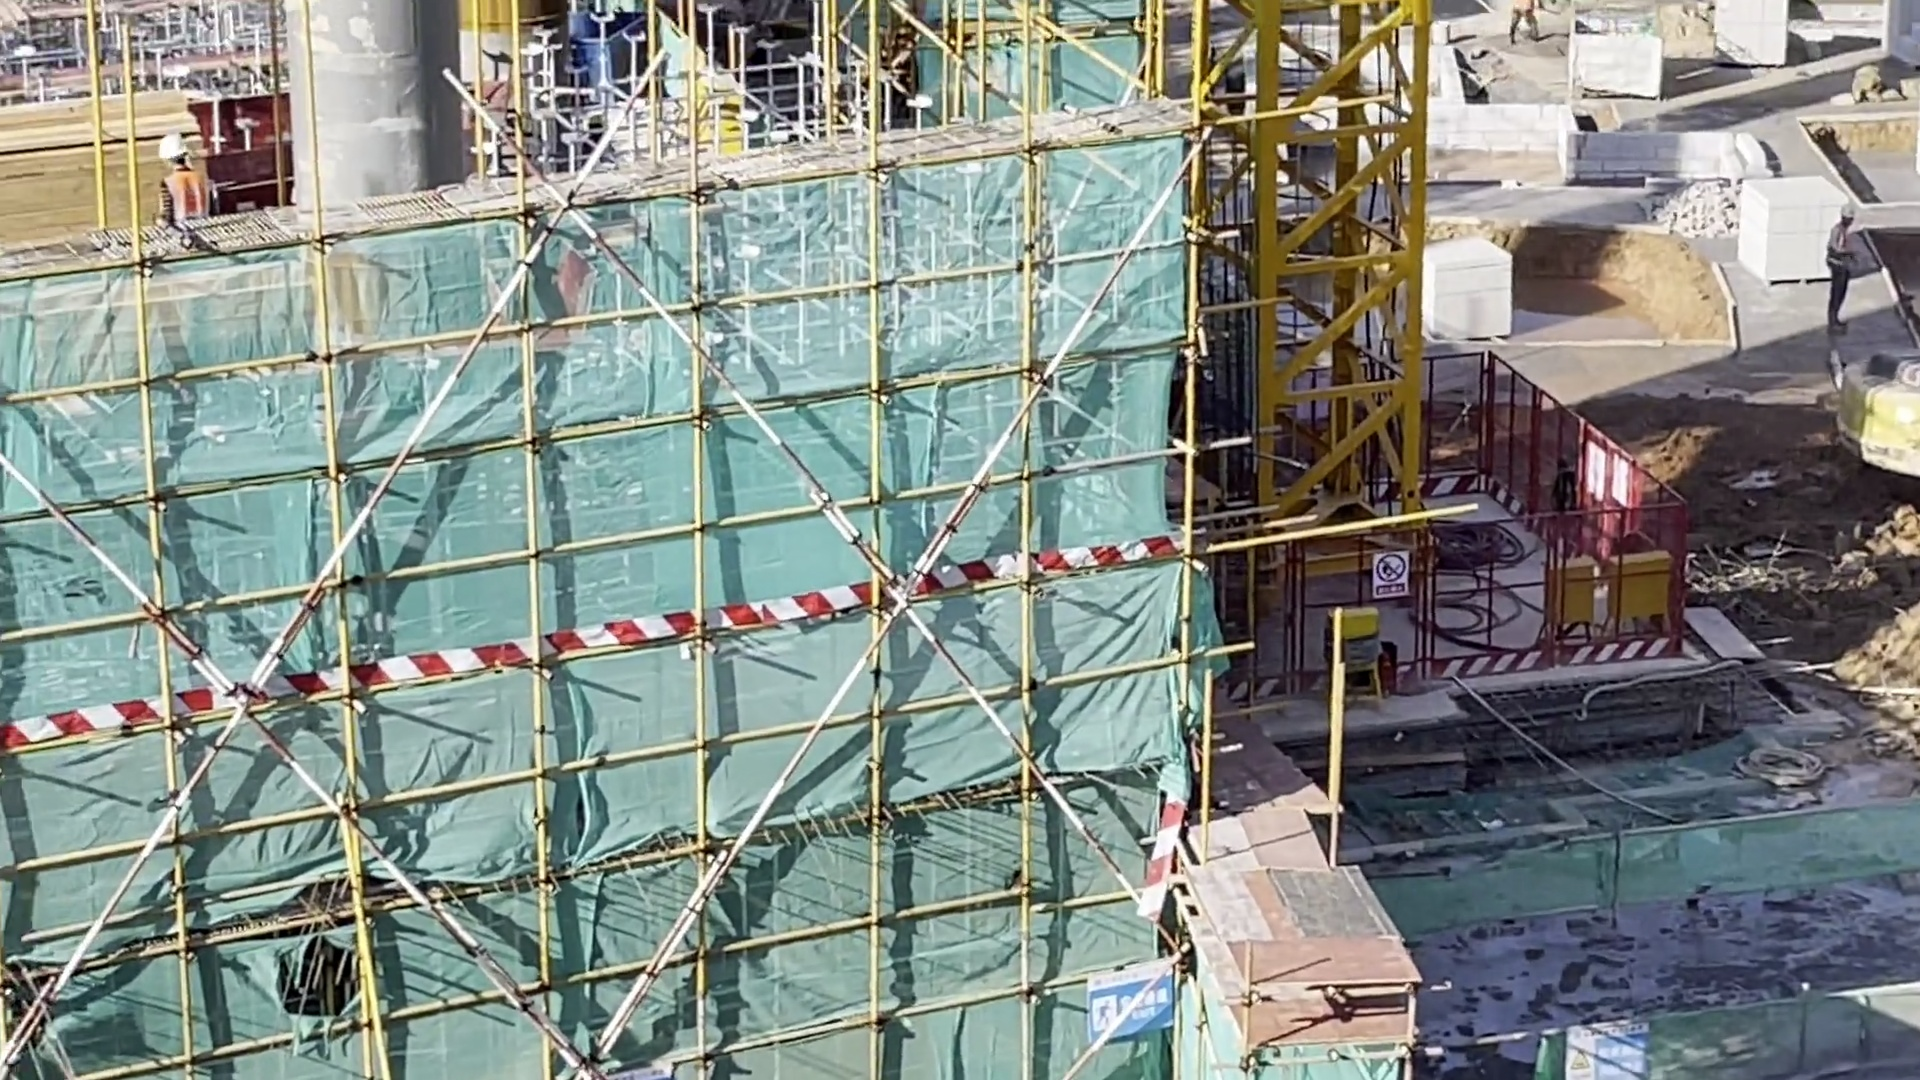helmet: (155, 132, 192, 167)
person: (149, 131, 225, 224)
slogan: (1089, 951, 1184, 1051)
vest: (149, 158, 217, 222)
